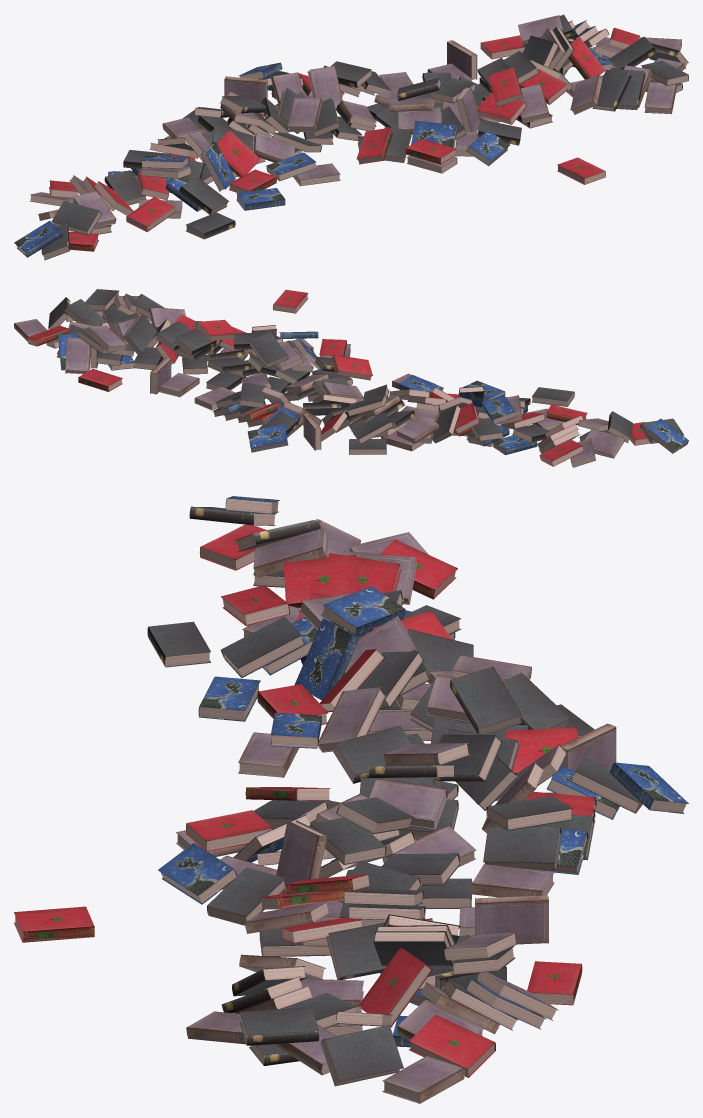
The model's file is pile_of_books.glb.
3 views of the same model, one above another, from view 1: azimuth 30°, elevation 25°; view 2: azimuth 150°, elevation 25°; view 3: azimuth 270°, elevation 25° (orthographic). The views are drawn at different scales.
Visible parts, largest first — view 1: Object_2, Object_3; view 2: Object_2, Object_3; view 3: Object_2, Object_3.
Boxes of the visible parts, <box> form: Object_2: <box>14,14,688,257</box>; Object_3: <box>29,20,609,260</box>; Object_2: <box>14,289,688,466</box>; Object_3: <box>58,321,683,467</box>; Object_2: <box>14,496,688,1103</box>; Object_3: <box>147,506,642,1034</box>.
Bounding box in the file's own units: 1108 × 66.92 × 530.
1 material, 1 textured.
